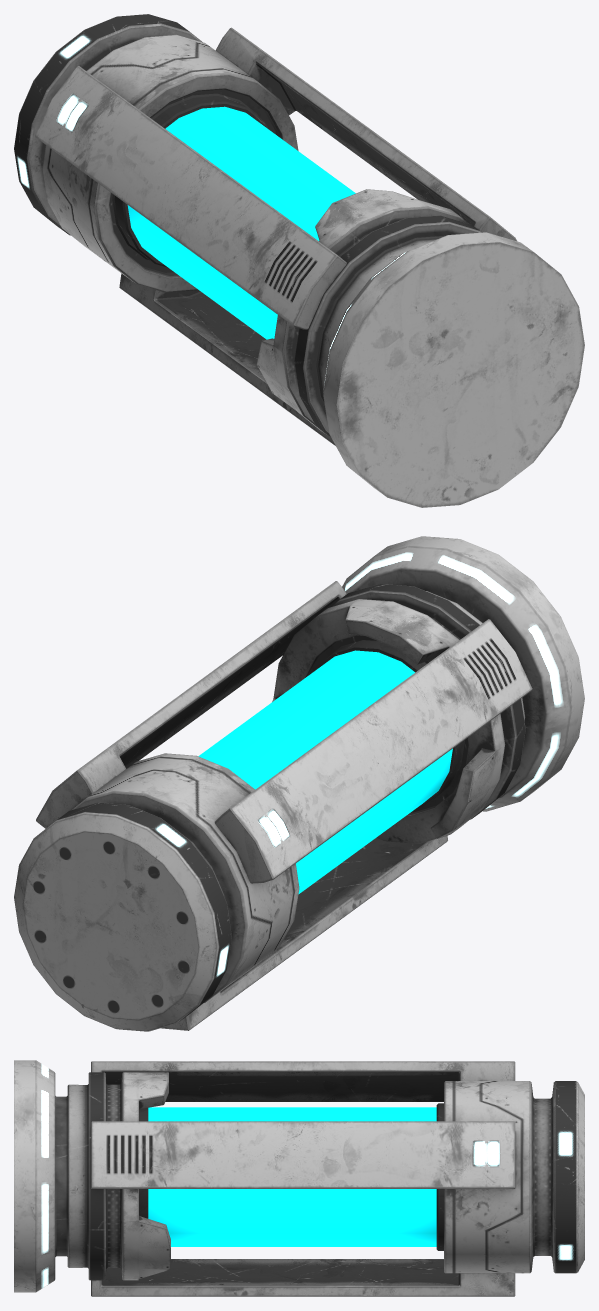
Rendered from capsulas_energia.fbx.
3 renders of one model, top to bottom at view 1: azimuth 30°, elevation 25°; view 2: azimuth 150°, elevation 25°; view 3: azimuth 270°, elevation 25°, orthographic. The views are drawn at different scales.
Visible parts, largest first — view 1: low2; view 2: low2; view 3: low2.
Boxes of the visible parts, box(x1,y1,x2,y2) form: low2: box(14, 14, 584, 507); low2: box(14, 536, 584, 1031); low2: box(14, 1060, 584, 1296).
Bounding box in the file's own units: 190 × 193 × 462.
Materials: 2 (2 with a texture image).
